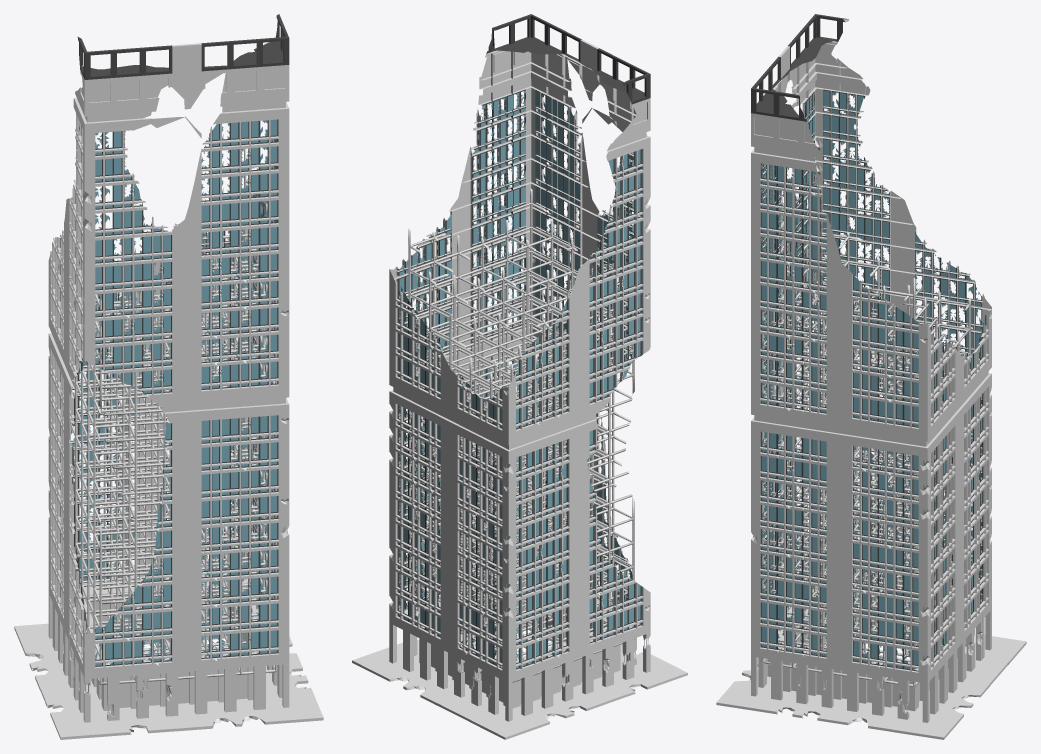
Rendered from building3.fbx.
3 views of the same model, side by side, from view 1: azimuth 30°, elevation 25°; view 2: azimuth 150°, elevation 25°; view 3: azimuth 270°, elevation 25° (orthographic). The views are drawn at different scales.
Parts seen in each view (by area): view 1: Building #4 outer, Building #4 inner; view 2: Building #4 outer, Building #4 inner; view 3: Building #4 outer, Building #4 inner.
Boxes of the visible parts, bbox=[...] form: Building #4 outer: bbox=[14, 14, 323, 739]; Building #4 inner: bbox=[68, 149, 277, 685]; Building #4 outer: bbox=[352, 14, 687, 739]; Building #4 inner: bbox=[408, 189, 634, 682]; Building #4 outer: bbox=[716, 14, 1026, 739]; Building #4 inner: bbox=[761, 232, 970, 686].
Bounding box in the file's own units: 104 × 225 × 104.
